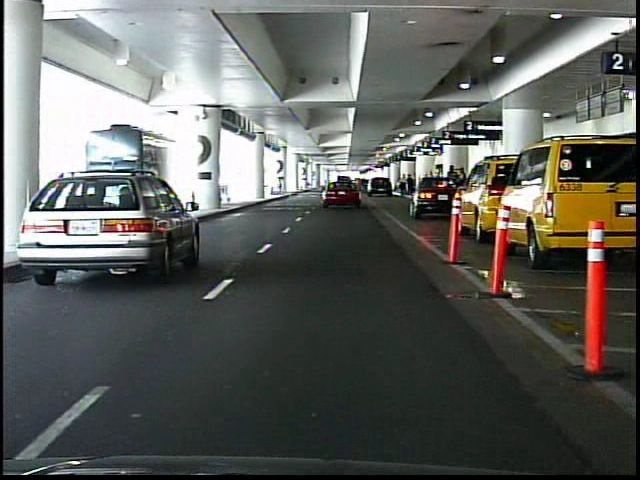person: (455, 166, 474, 221), (442, 162, 461, 211), (399, 174, 408, 197), (406, 173, 414, 196)
